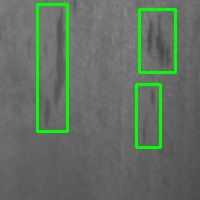inclusion: (37, 4, 67, 131), (139, 9, 175, 72), (136, 84, 160, 147)
